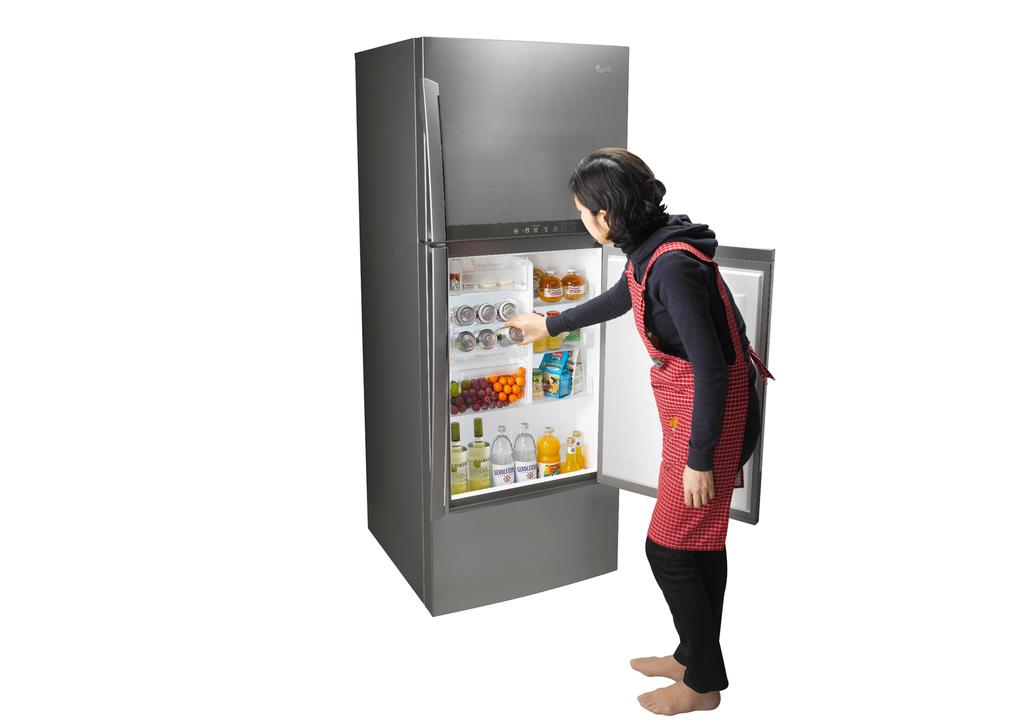handle: (424, 248, 450, 516), (418, 81, 452, 243)
